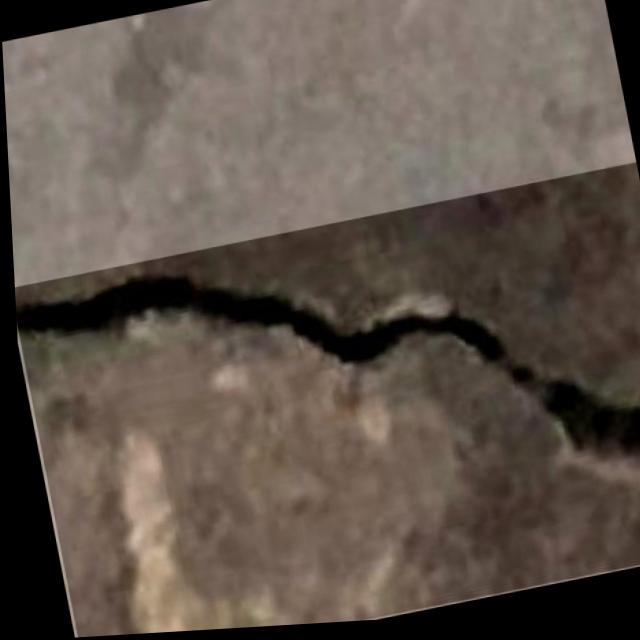Crack: (8, 172, 640, 640)
